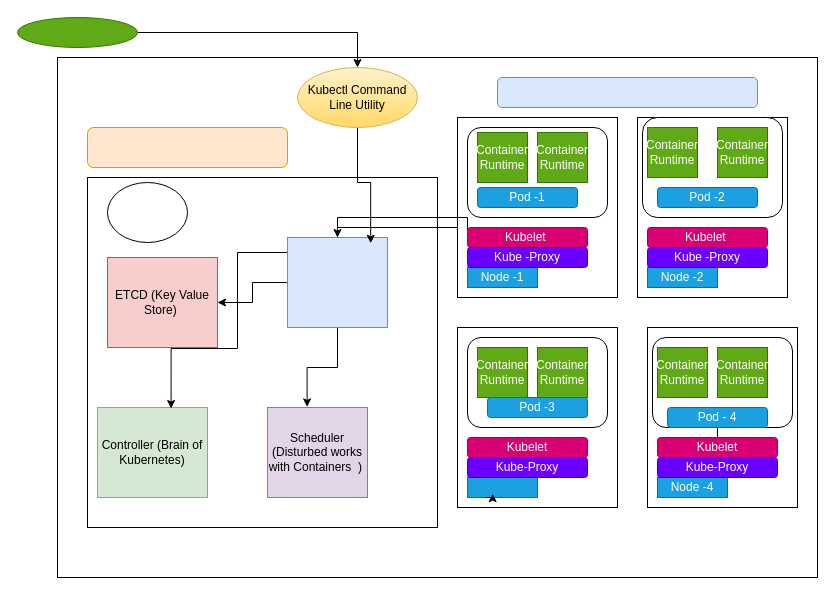
The diagram is 835 pixels wide and 595 high, and some of its shapes have lost their labels. Each missing label, with the centre of its shape:
Kube API Server: pixel 337 282
Kube DNS: pixel 147 212
Master Node: pixel 187 147
Node -3: pixel 502 487
User: pixel 77 32
Worker Nodes: pixel 627 92
